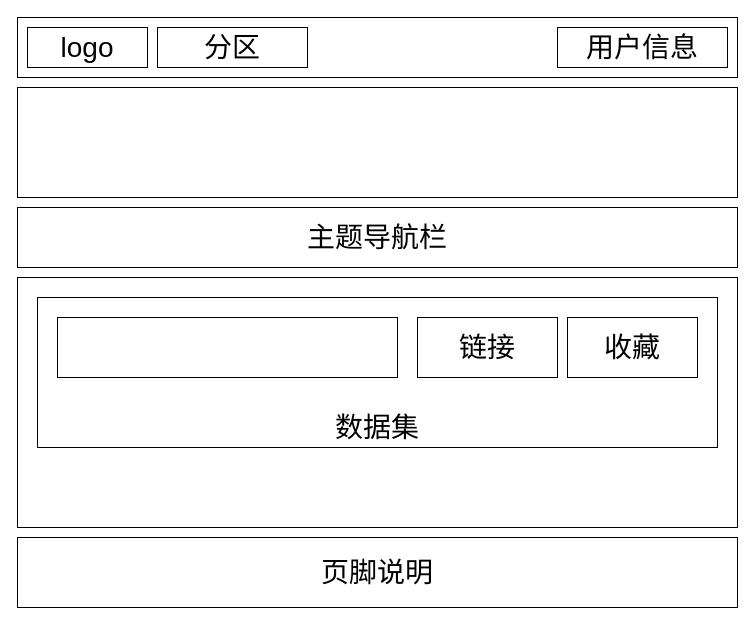
This 755x625 diagram has some shape labels left out. The shapes that lost their labels are listed below. From the top down, each one's box as (x1, y1, x2, y2) in pixels, then its label:
(16, 16, 738, 78): 导航栏
(16, 86, 738, 198): 主题图
(56, 316, 398, 378): 标题等信息
(16, 276, 738, 528): 数据集列表
